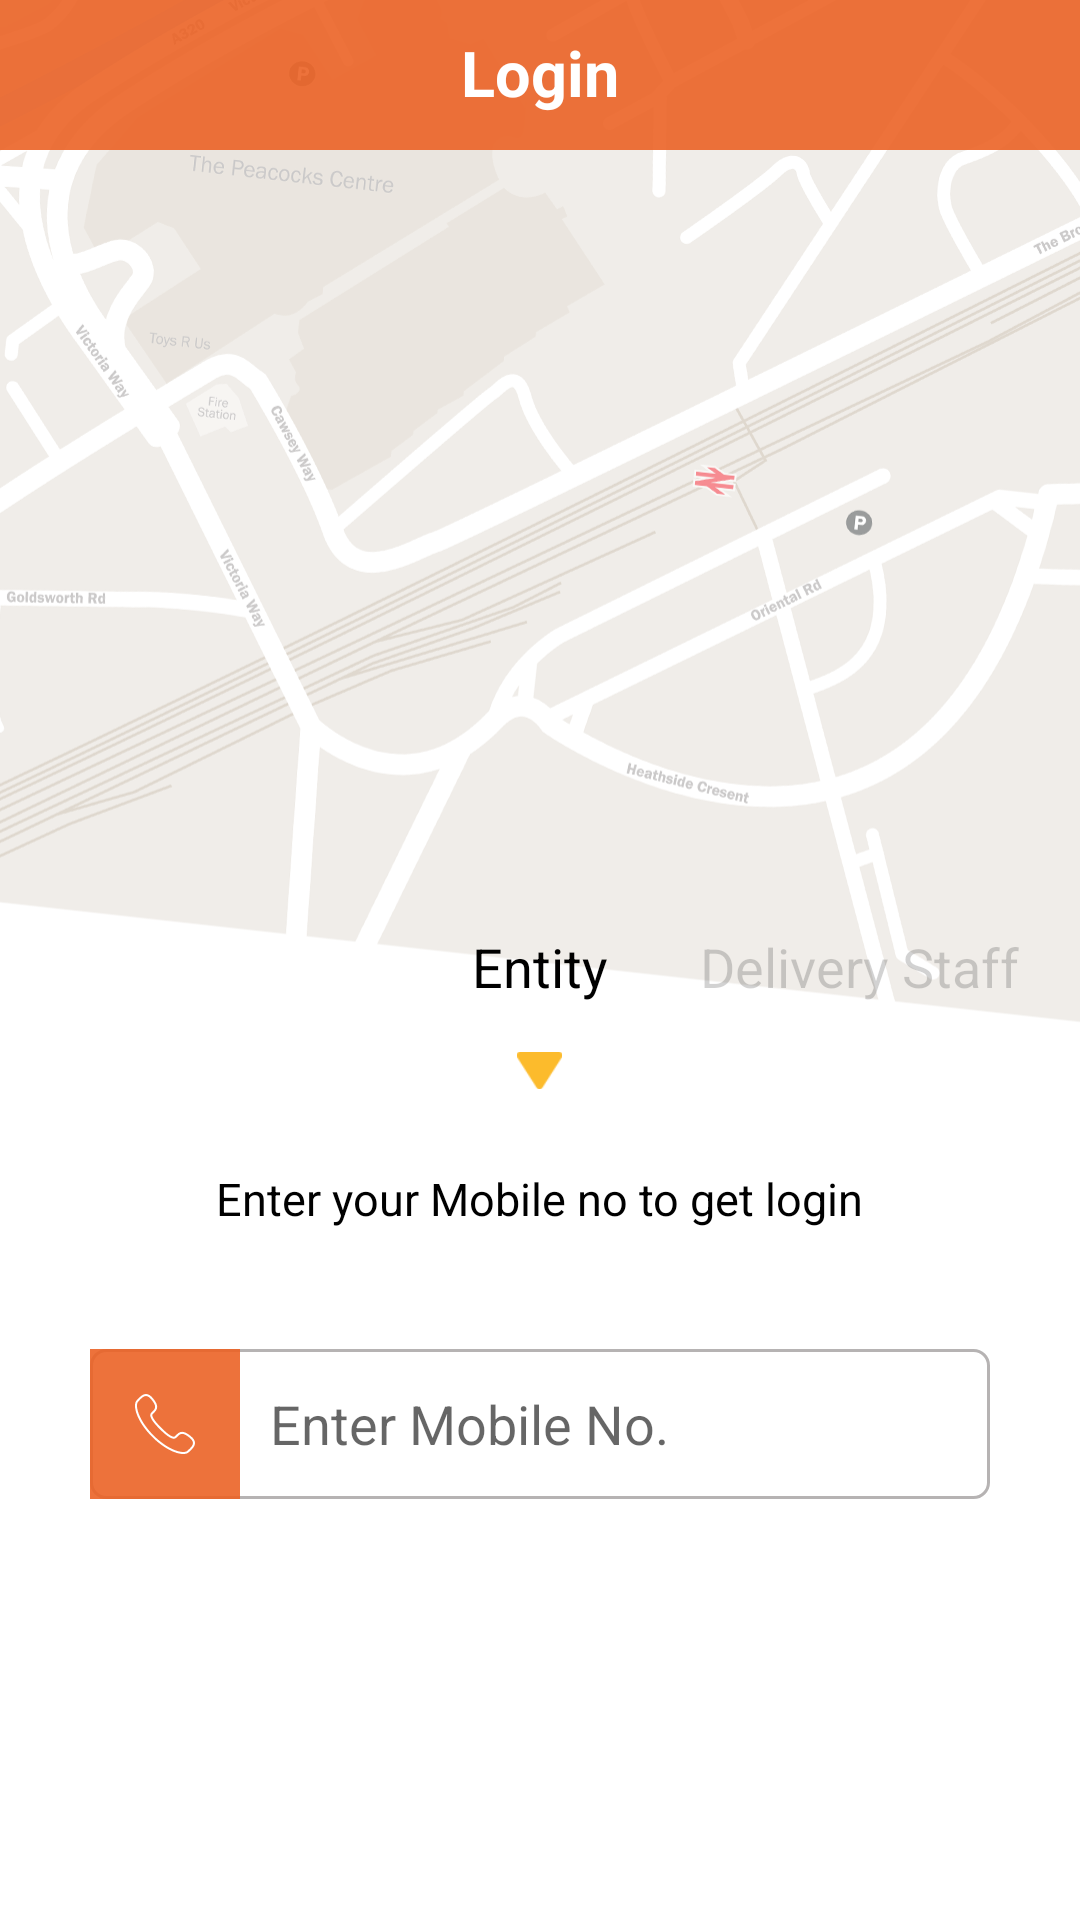

Locate icon controls on the screen. Image size 1080 x 1920, boxes as (x1, y1, x2, y2).
phone call: (90, 1349, 240, 1499)
yelllo arrow: (517, 1052, 562, 1089)
